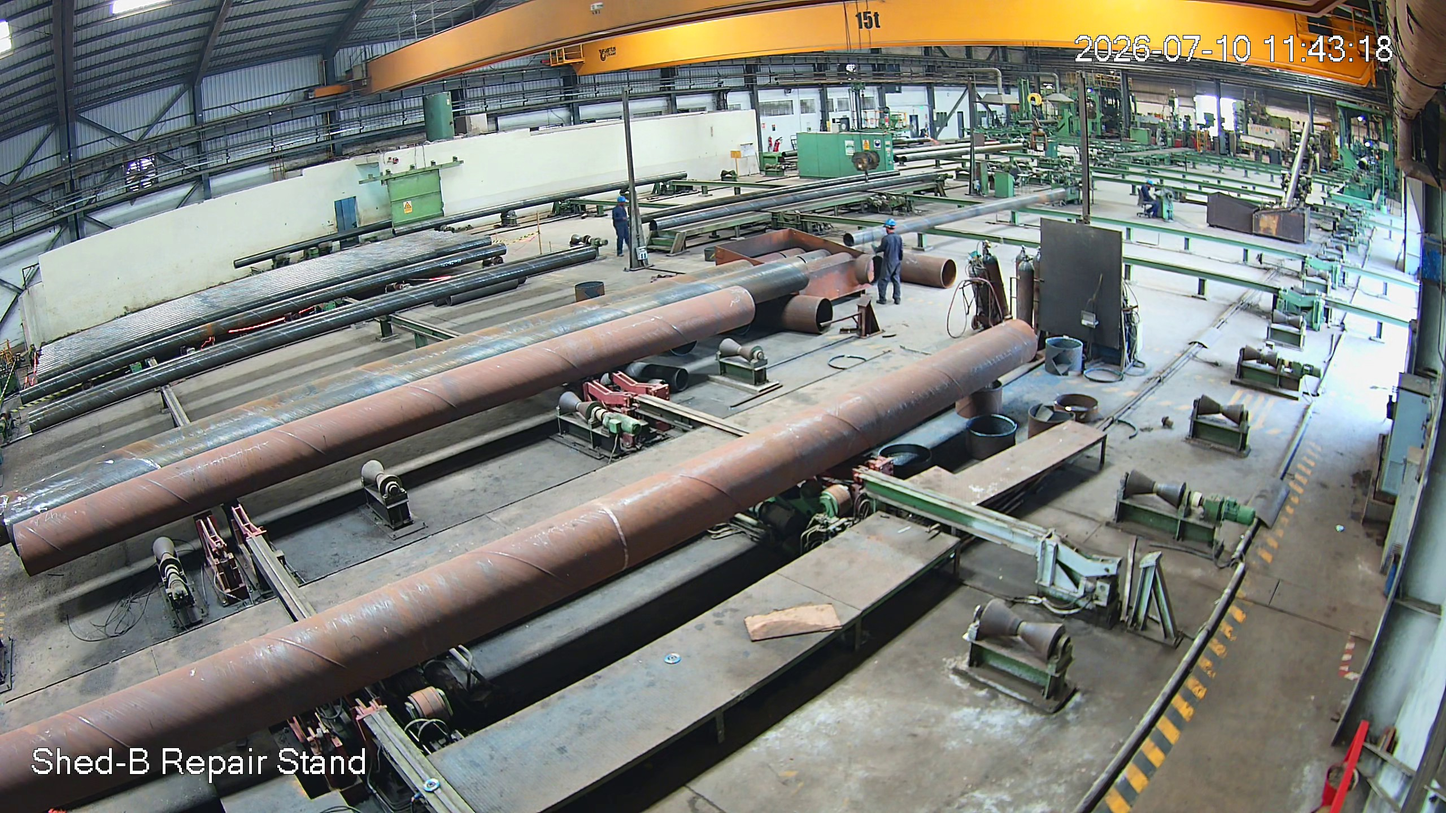Helmet: (880, 217, 903, 250), (1141, 176, 1157, 194), (616, 190, 627, 213)
Person: (877, 222, 911, 305), (612, 192, 634, 260), (1135, 178, 1163, 221)
